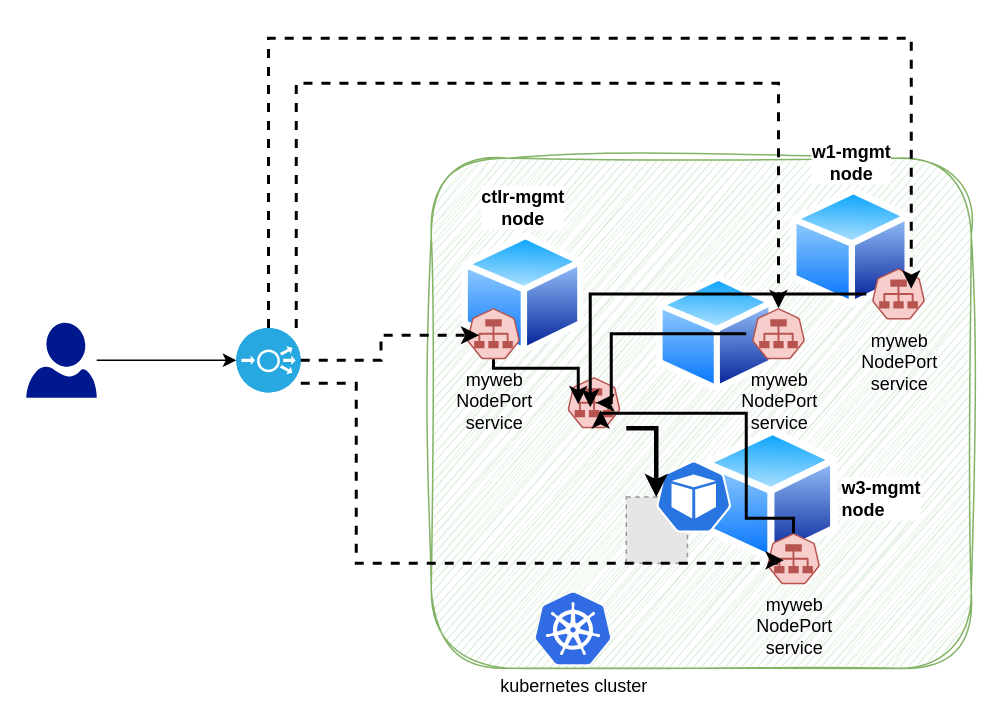
Some shapes in this 998 by 722 pixel diagram are drawn without their labels. Grey dashed boxes stand in for pictures. Each missing label, with the centre of its shape:
"LoadBalancer IP Address" goes at [268,360].
"myweb ClusterIP service" goes at [593,402].
"myweb POD" goes at [693,495].
"w2-mgmt node" goes at [716,333].
